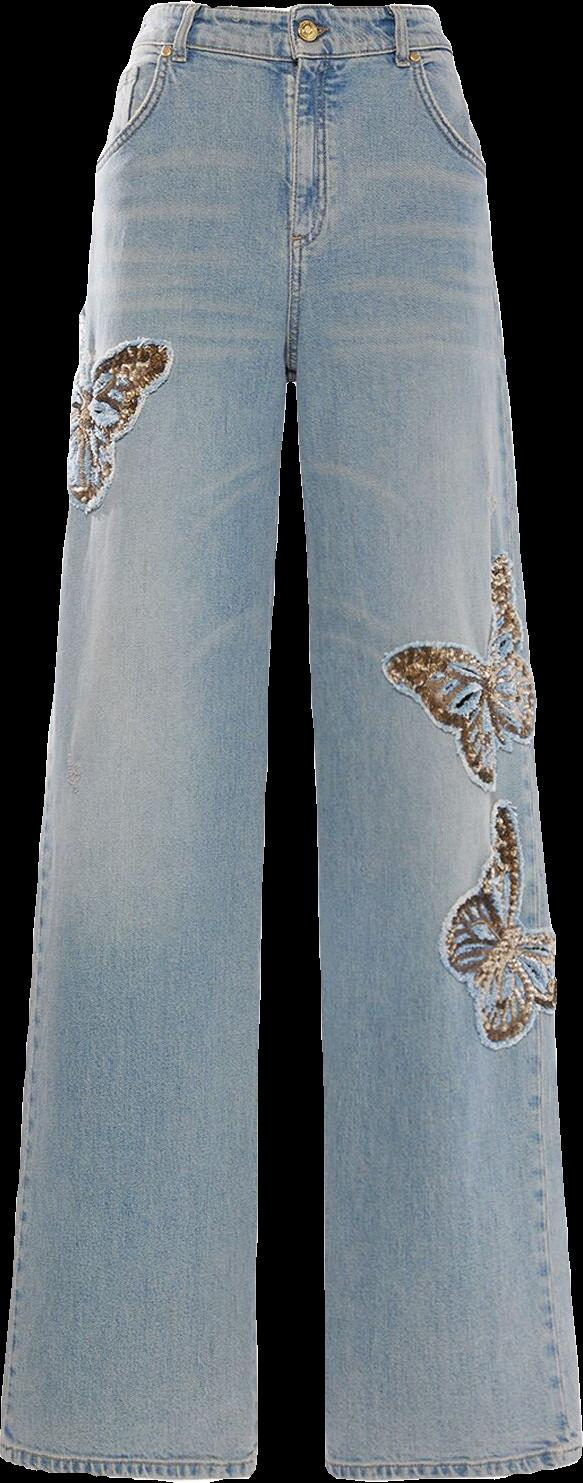Hemline: (325, 1440, 582, 1482), (0, 1443, 262, 1482)
Pantleg: (286, 2, 582, 1478), (0, 0, 287, 1480)
Waistline: (129, 25, 452, 69), (142, 0, 430, 17)
